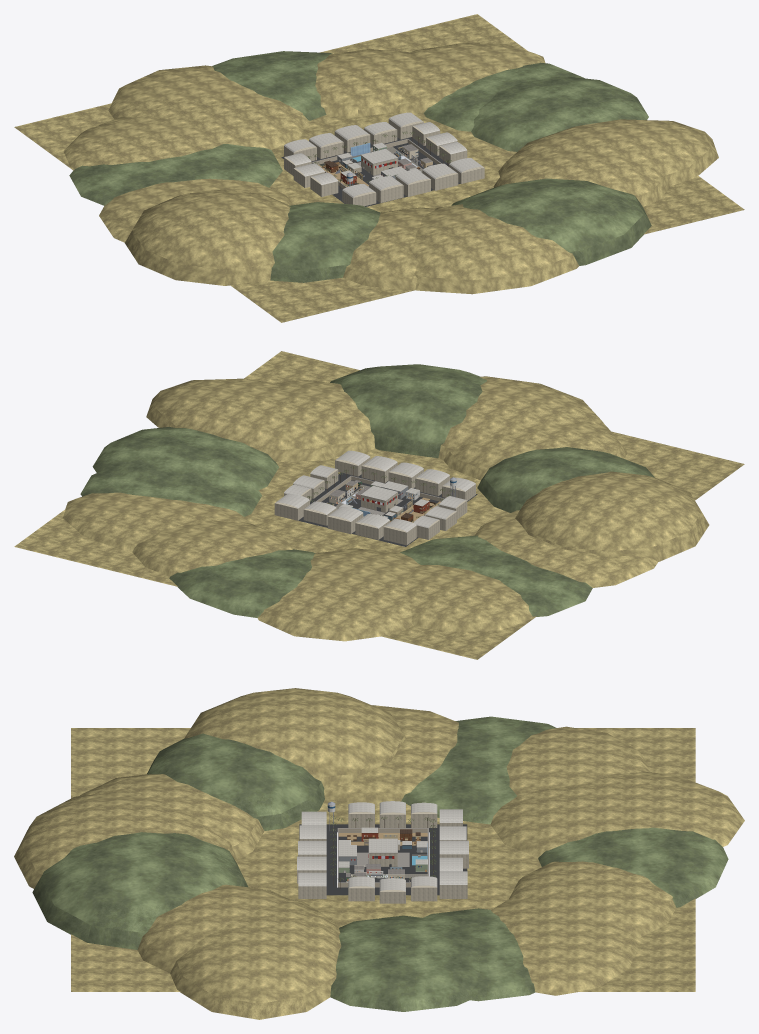
The model's file is lot-9-structure.glb.
The picture shows the model from 3 angles, top to bottom: view 1: azimuth 30°, elevation 25°; view 2: azimuth 150°, elevation 25°; view 3: azimuth 270°, elevation 25°; orthographic projection. The views are drawn at different scales.
Parts seen in each view (by area): view 1: backdrop.hills, backdrop.ground, backdrop.stages, stage; view 2: backdrop.hills, backdrop.ground, backdrop.stages, stage; view 3: backdrop.hills, backdrop.ground, backdrop.stages, ground, stage, backdrop.trees.
Boxes of the visible parts, left/top/right/bottom form: backdrop.hills: left=63, top=43, right=718, bottom=294; backdrop.ground: left=14, top=14, right=744, bottom=322; backdrop.stages: left=284, top=112, right=484, bottom=206; stage: left=361, top=149, right=397, bottom=175; backdrop.hills: left=63, top=364, right=709, bottom=641; backdrop.ground: left=14, top=351, right=744, bottom=659; backdrop.stages: left=274, top=450, right=475, bottom=545; stage: left=361, top=486, right=397, bottom=512; backdrop.hills: left=14, top=688, right=744, bottom=1019; backdrop.ground: left=71, top=728, right=695, bottom=991; backdrop.stages: left=297, top=801, right=468, bottom=903; ground: left=338, top=836, right=427, bottom=887; stage: left=369, top=838, right=397, bottom=866; backdrop.trees: left=330, top=816, right=436, bottom=888.
Size of the model in its own units: 627 by 38.78 by 608.
54 materials, 54 textured.
